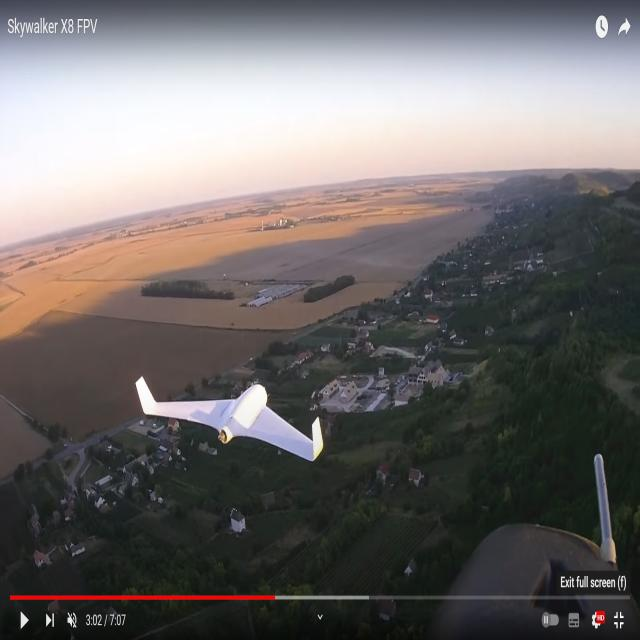iha: (135, 404, 325, 432)
